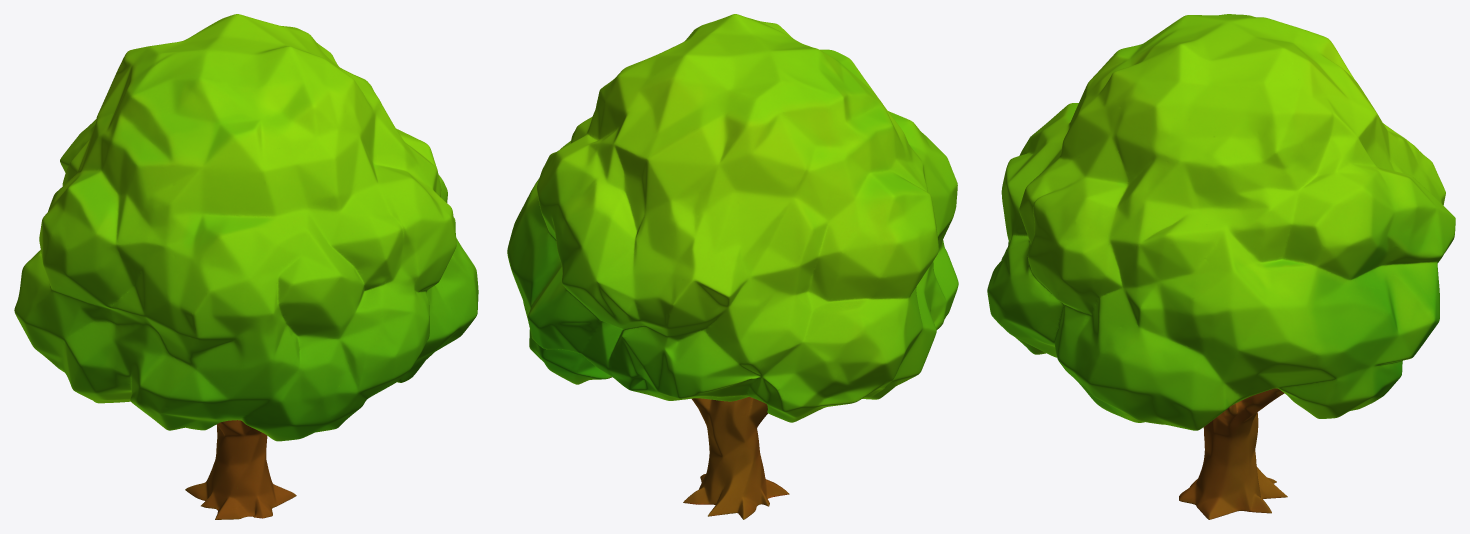
Rendered from tree1-round.glb.
The picture shows the model from 3 angles, left to right: view 1: azimuth 30°, elevation 25°; view 2: azimuth 150°, elevation 25°; view 3: azimuth 270°, elevation 25°; orthographic projection.
Size of the model in its own units: 1.67 by 1.9 by 1.73.
1 material, 1 textured.
